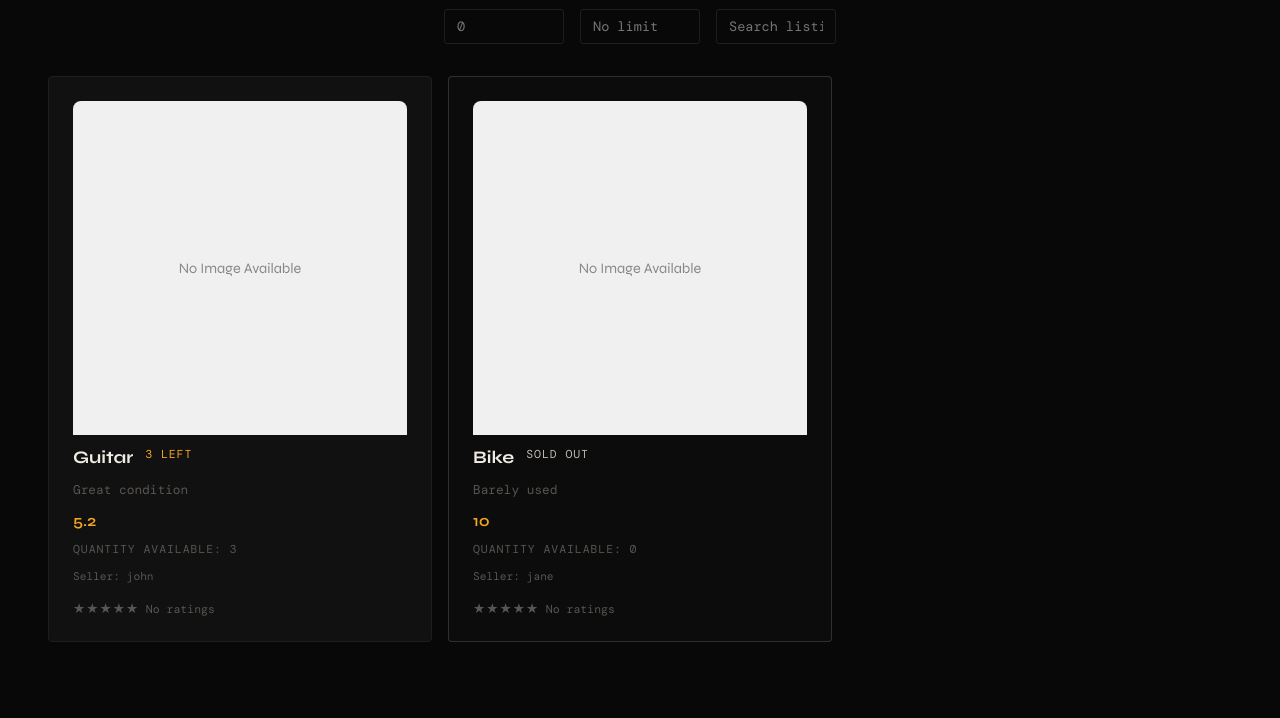
Scenario: Listings › opens and closes a listing details modal when a listing is clicked
(page scrolled)
expect the text "Guitar" is shown: met, box [73,447,133,468]
Click the button with aria-label "view details for guitar". click: click(240, 359)
box: [48,76,432,642]
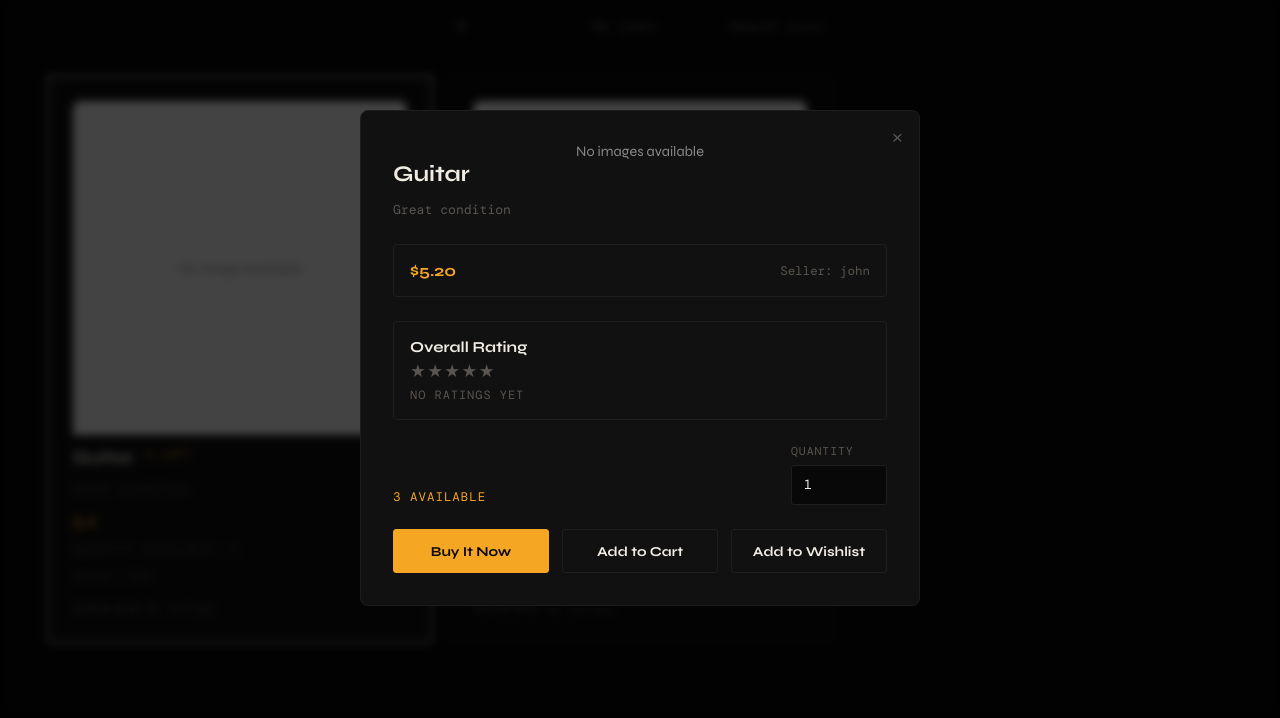
expect the dialog "Guitar" is shown: met, box [360,110,920,606]
expect the button "Buy It Now" is shown: met, box [393,529,549,573]
expect the button "Add to Cart" is shown: met, box [562,529,718,573]
Click the button named "close listing details". click: click(897, 138)
box: [892,127,903,149]
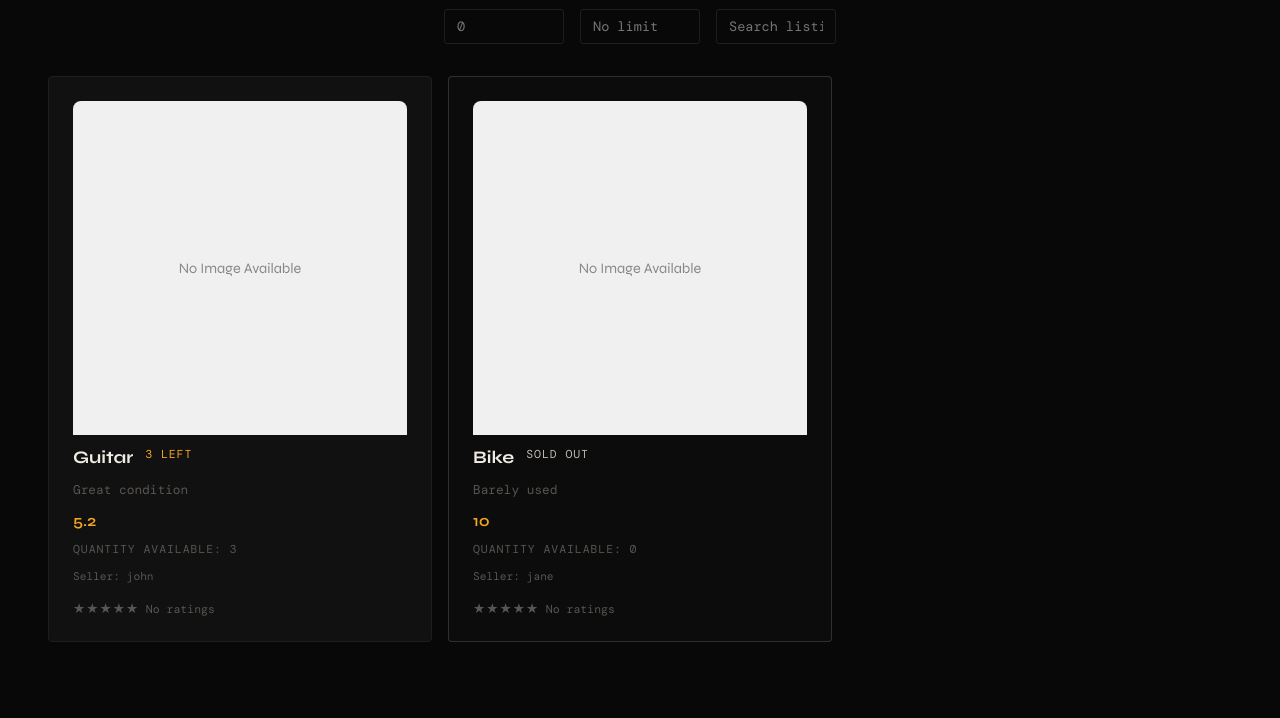
expect the dialog is gone: met
